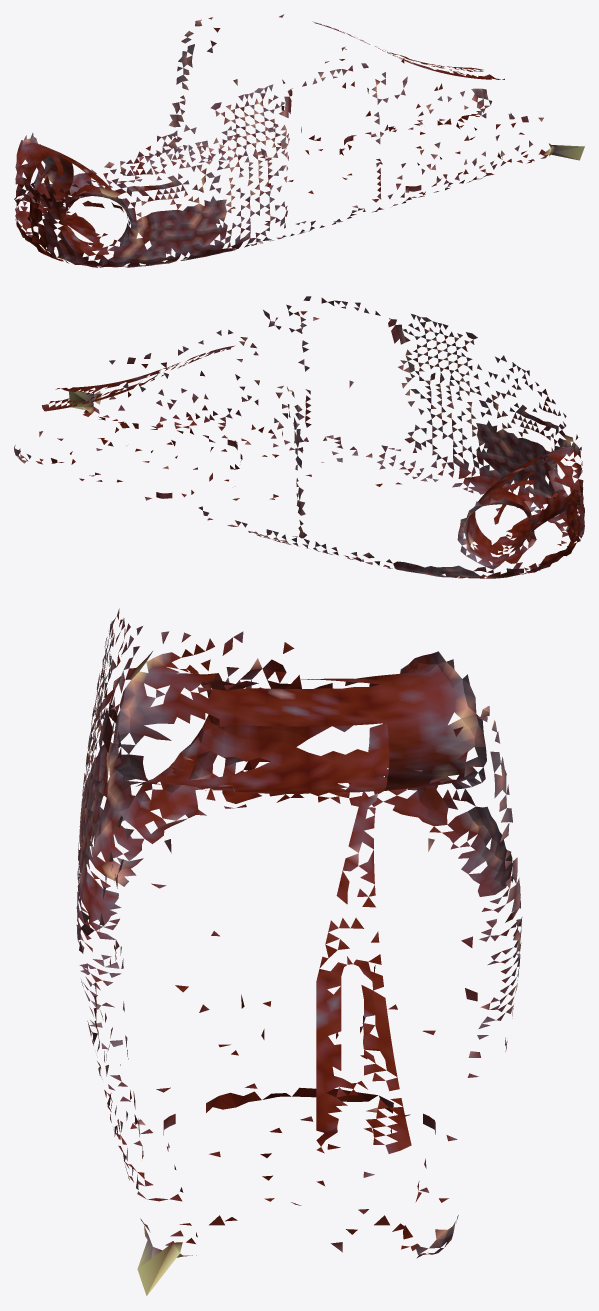
The picture shows the model from 3 angles, top to bottom: view 1: azimuth 30°, elevation 25°; view 2: azimuth 150°, elevation 25°; view 3: azimuth 270°, elevation 25°; orthographic projection. The views are drawn at different scales.
Bounding box in the file's own units: 2 × 0.5919 × 0.7495.
